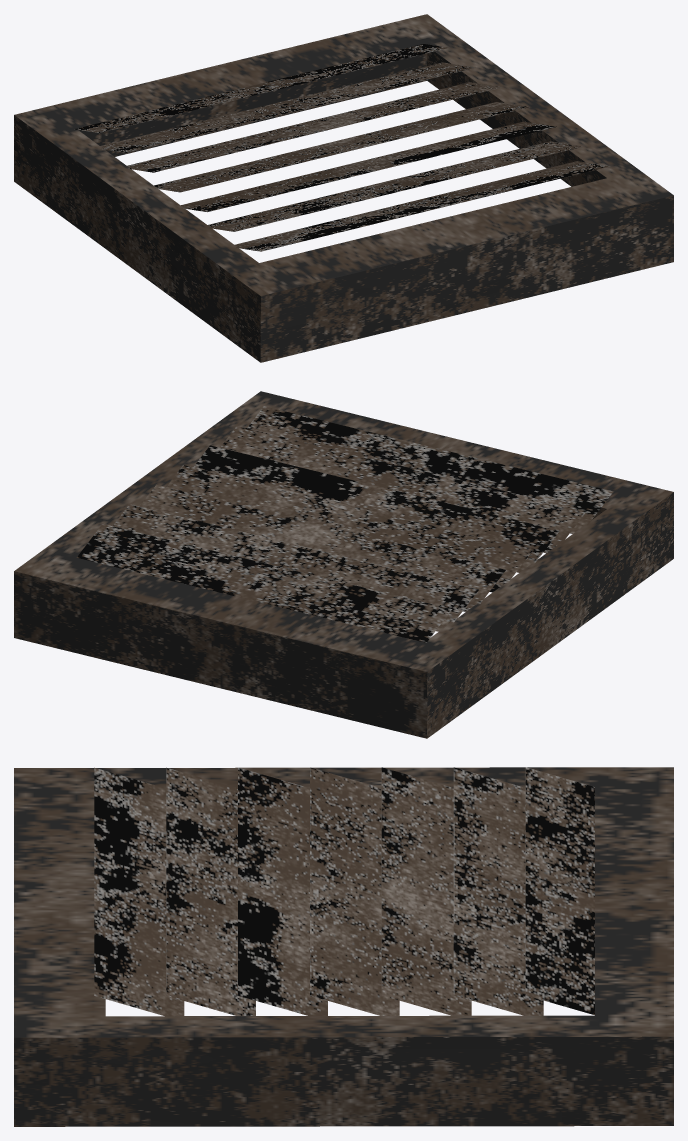
The model's file is rejilla.glb.
The picture shows the model from 3 angles, top to bottom: view 1: azimuth 30°, elevation 25°; view 2: azimuth 150°, elevation 25°; view 3: azimuth 270°, elevation 25°; orthographic projection. The views are drawn at different scales.
Visible parts, largest first — view 1: Cube.002; view 2: Cube.002; view 3: Cube.002.
Part boxes in pixels (x1,y1,x2,y2): Cube.002: (14,14,673,362); Cube.002: (14,391,673,738); Cube.002: (14,767,673,1126).
Size of the model in its own units: 1.1 by 0.209 by 1.14.
Materials: 1 (1 with a texture image).
